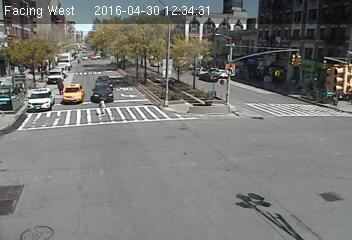neg: (292, 46, 324, 89), (288, 112, 316, 149), (238, 196, 262, 229), (78, 152, 101, 183), (221, 69, 243, 98), (116, 56, 137, 84), (307, 178, 327, 205), (69, 61, 88, 87), (26, 68, 44, 93), (189, 109, 207, 133), (160, 78, 176, 99), (226, 169, 242, 190), (164, 165, 180, 186), (31, 138, 46, 159), (257, 191, 267, 205)
pos: (96, 97, 108, 113)
